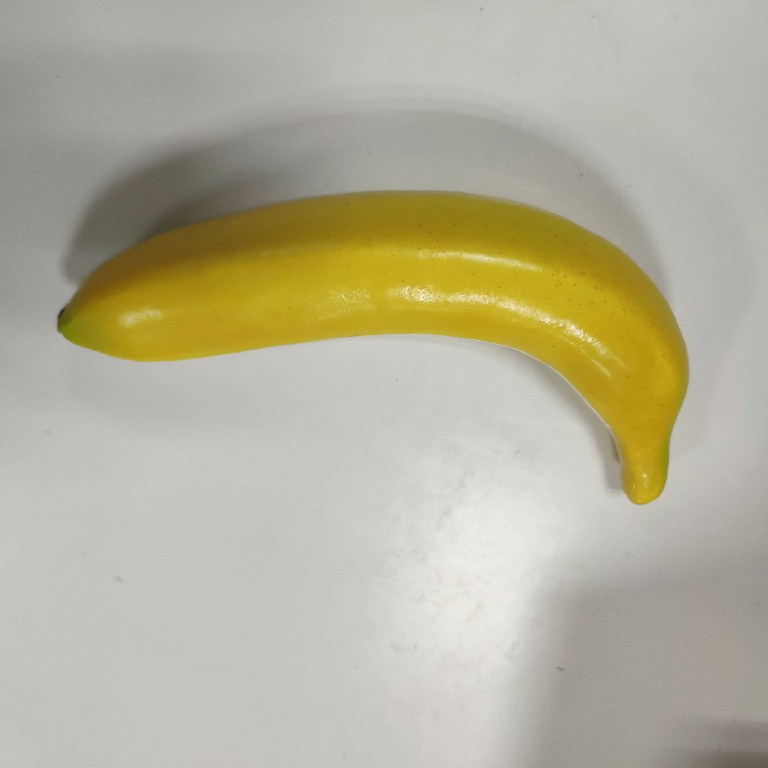fruit_banana: (49, 185, 695, 511)
